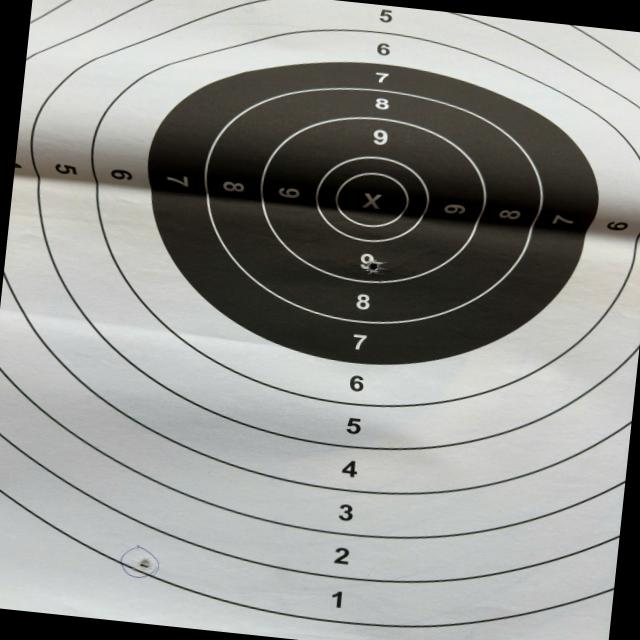bullet: (136, 557, 155, 572), (368, 261, 379, 270)
target: (0, 0, 640, 640)
